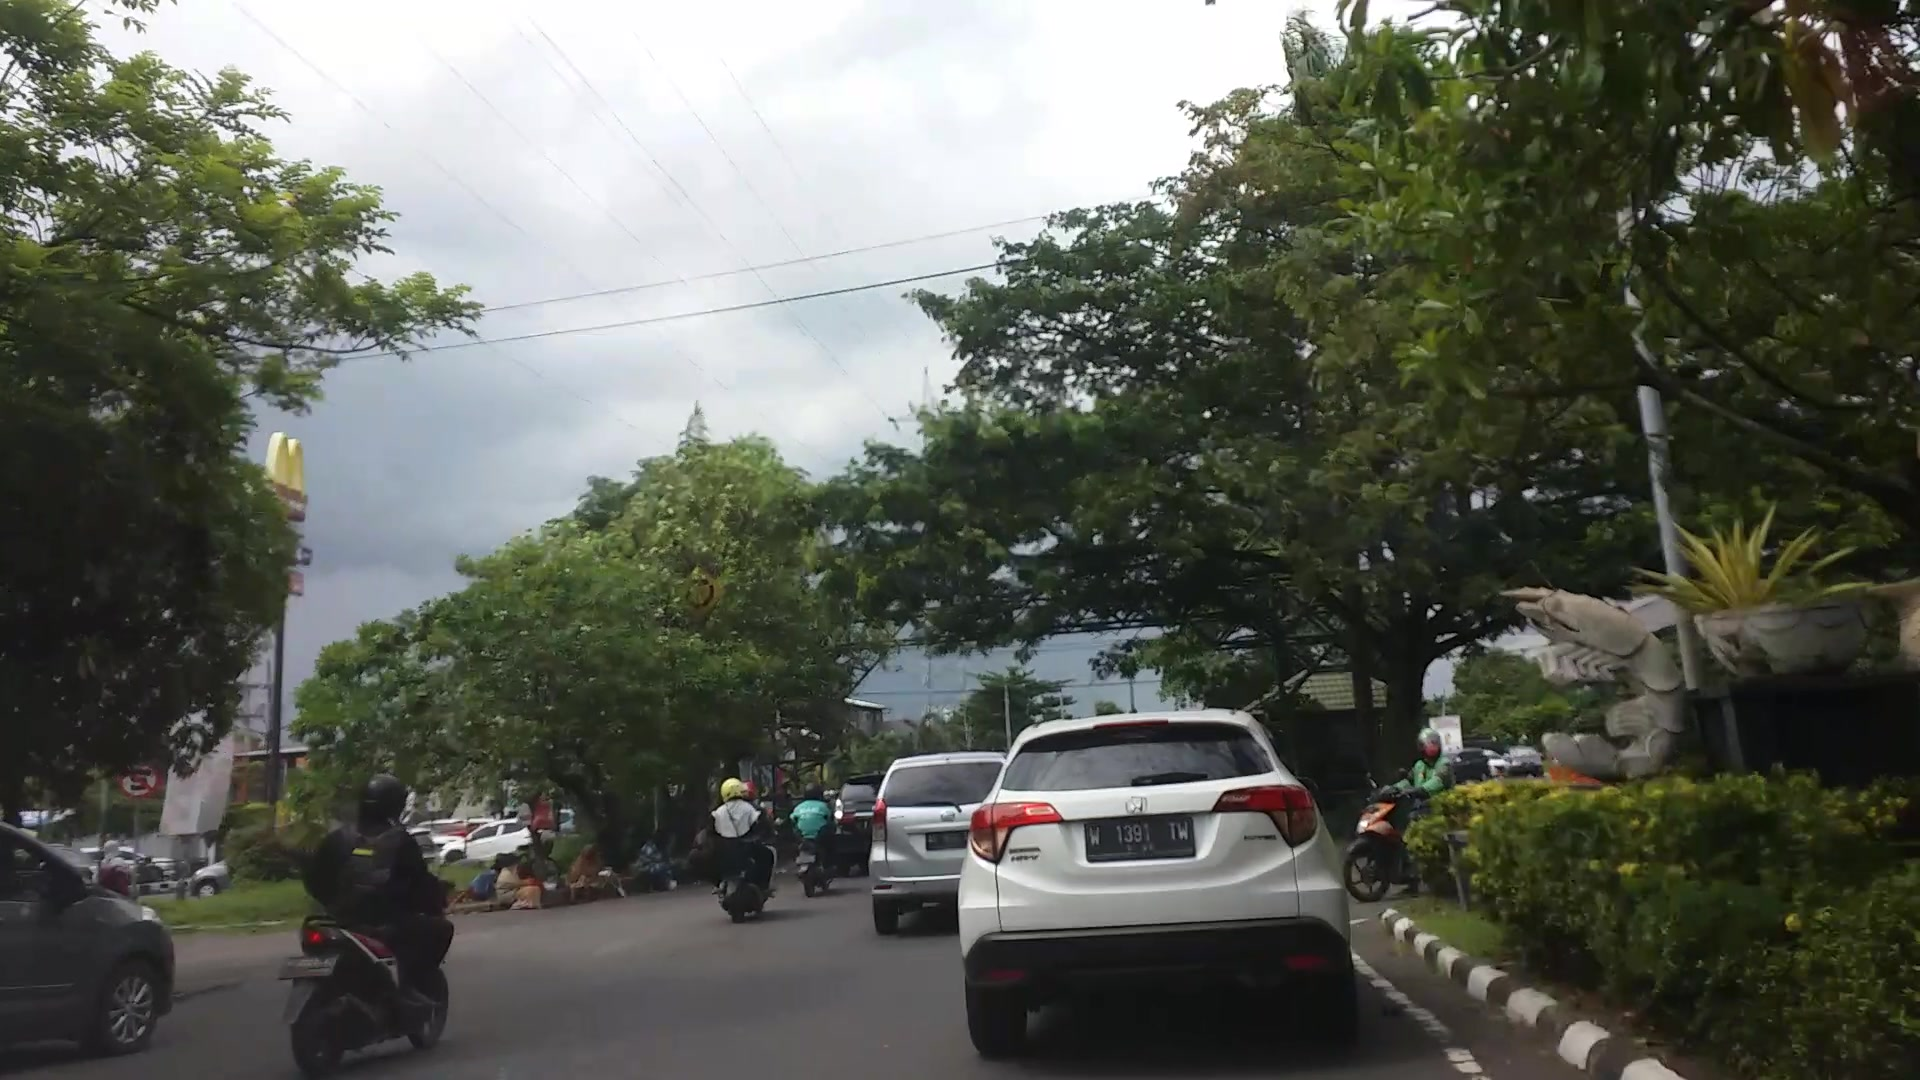plate_positive: (1085, 818, 1195, 861)
